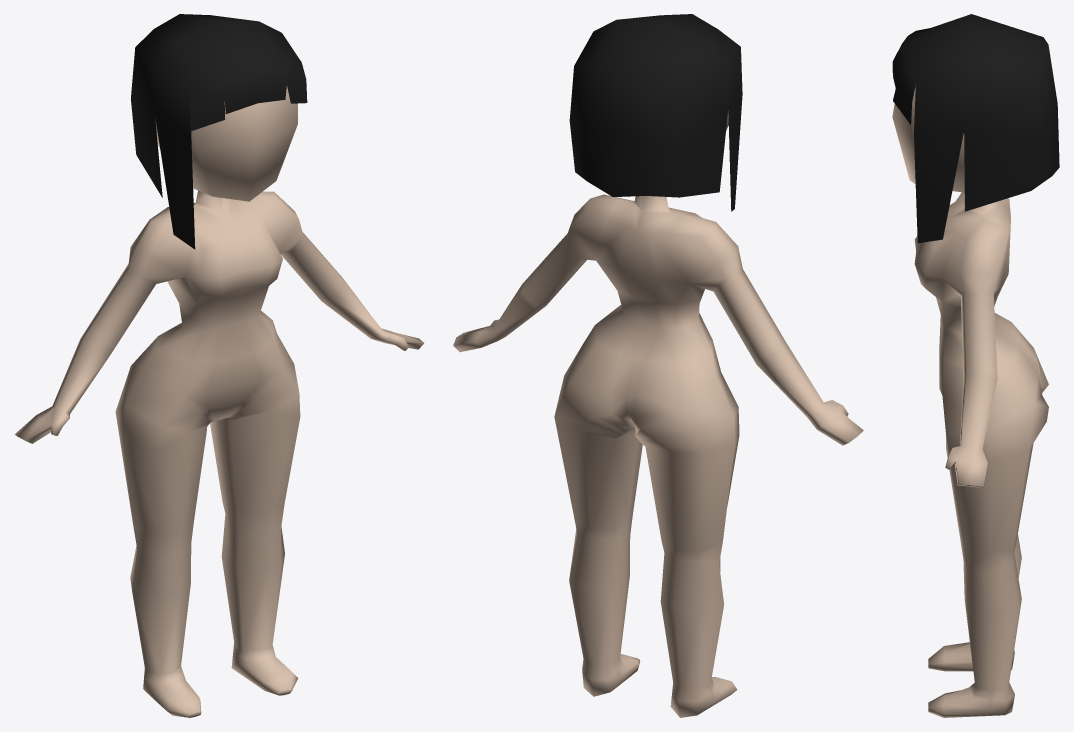
Rendered from cutie.gltf.
3 renders of one model, left to right at view 1: azimuth 30°, elevation 25°; view 2: azimuth 150°, elevation 25°; view 3: azimuth 270°, elevation 25°, orthographic.
Visible parts, largest first — view 1: body.002, hair.002; view 2: body.002, hair.002; view 3: body.002, hair.002.
Part boxes in pixels (x1=…): body.002: x1=14, y1=86, x2=423, y2=717; hair.002: x1=131, y1=14, x2=307, y2=249; body.002: x1=453, y1=111, x2=863, y2=717; hair.002: x1=569, y1=14, x2=742, y2=211; body.002: x1=892, y1=86, x2=1048, y2=717; hair.002: x1=892, y1=14, x2=1059, y2=243.
Size of the model in its own units: 1.43 by 2.29 by 0.5203.
